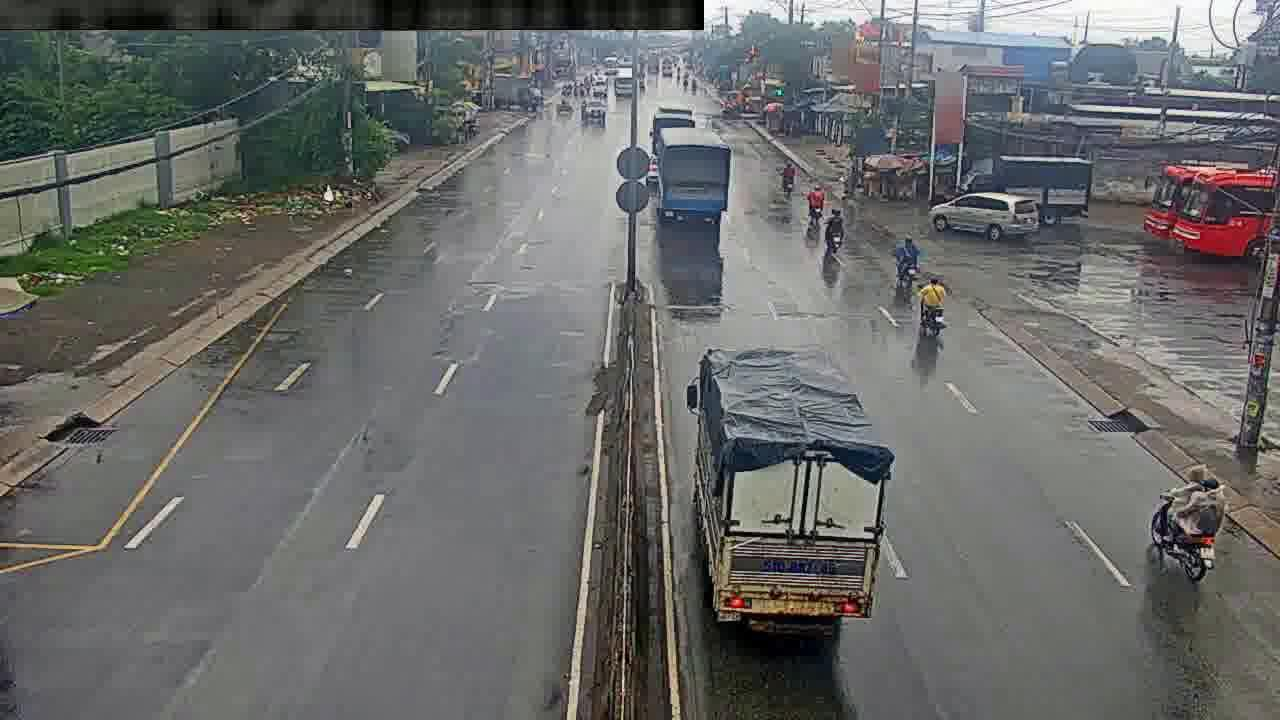container: (687, 343, 890, 633), (660, 132, 730, 221)
motorbike: (1157, 463, 1215, 584), (917, 268, 948, 339), (895, 232, 917, 289), (822, 203, 846, 250), (806, 178, 826, 228), (779, 152, 794, 193)
